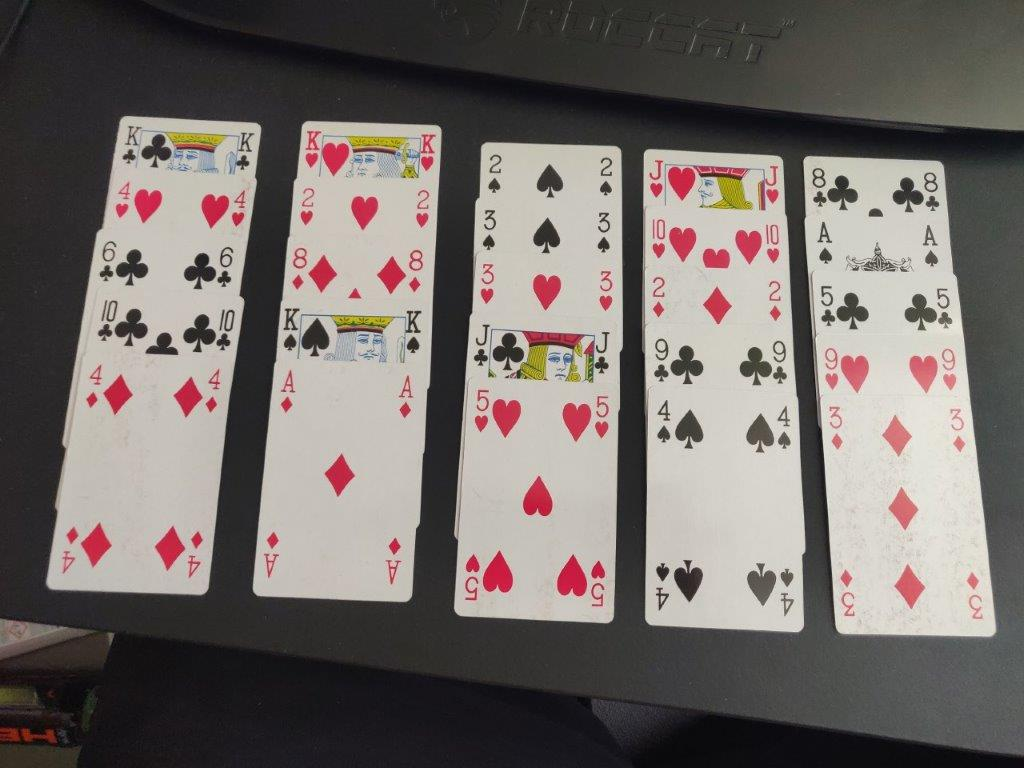10C: (214, 308, 237, 355), (96, 299, 118, 344)
10H: (649, 215, 669, 264), (762, 221, 784, 265)
2D: (647, 273, 670, 320), (764, 278, 786, 324)
2H: (298, 185, 318, 228), (413, 188, 432, 231)
2S: (483, 152, 505, 198), (595, 155, 616, 200)
3D: (945, 404, 971, 458), (824, 403, 850, 456)
3H: (595, 267, 616, 314), (478, 261, 498, 309)
3S: (594, 210, 614, 256), (480, 207, 498, 254)
4D: (202, 367, 223, 415), (84, 363, 104, 411)
4H: (112, 180, 132, 222), (231, 187, 247, 232)
4S: (653, 398, 675, 447), (775, 402, 796, 452)
5C: (817, 282, 840, 332), (934, 286, 957, 332)
5H: (470, 387, 494, 438), (593, 393, 612, 441)
6C: (98, 239, 118, 284), (216, 246, 235, 292)
8C: (921, 169, 943, 216), (809, 166, 829, 213)
8D: (405, 248, 426, 297), (289, 245, 309, 292)
9C: (650, 335, 671, 387), (770, 338, 791, 388)
9H: (819, 343, 842, 394), (939, 347, 961, 395)
AD: (275, 367, 298, 416), (394, 372, 415, 421)
AS: (812, 218, 837, 270), (918, 222, 943, 268)
JC: (471, 319, 492, 371), (593, 330, 613, 376)
JH: (645, 156, 666, 204), (762, 164, 782, 207)
KC: (120, 123, 141, 169), (234, 130, 255, 173)
KH: (302, 129, 322, 171), (418, 133, 438, 175)
KS: (280, 305, 301, 357), (404, 309, 424, 356)
